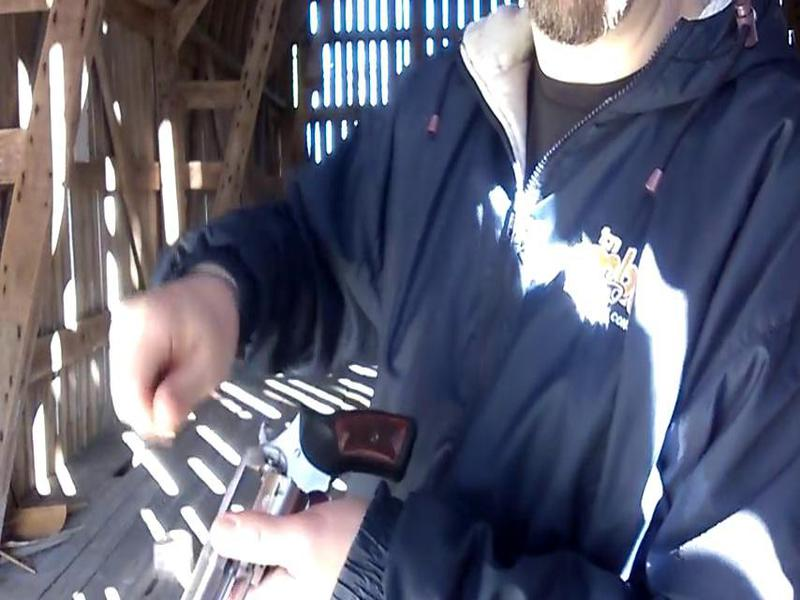Revolver: (157, 392, 431, 600)
